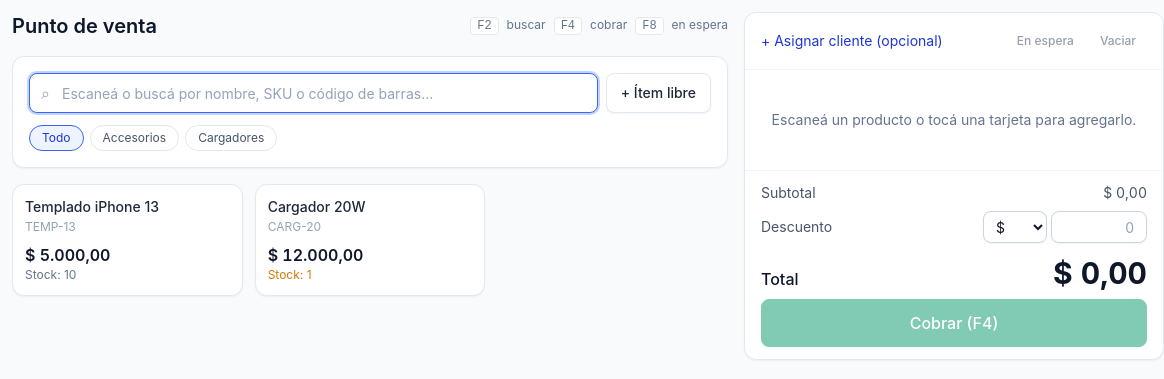
Test case: PosPage › adds the exact item when a barcode is scanned
Expected: the button "Cargador 20W CARG-20 $ 12.000,00 Stock: 1" is shown, [255, 184, 485, 296]
Type "7790001" into the search field at (313, 93), box [29, 73, 598, 113]
Then press Enter
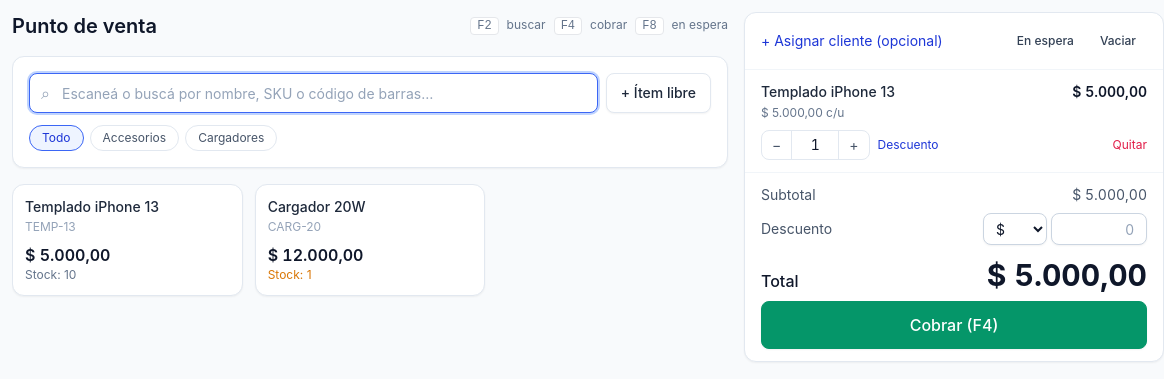
Expected: the list named "Carrito" shows "Templado iPhone 13", [761, 83, 895, 100]
